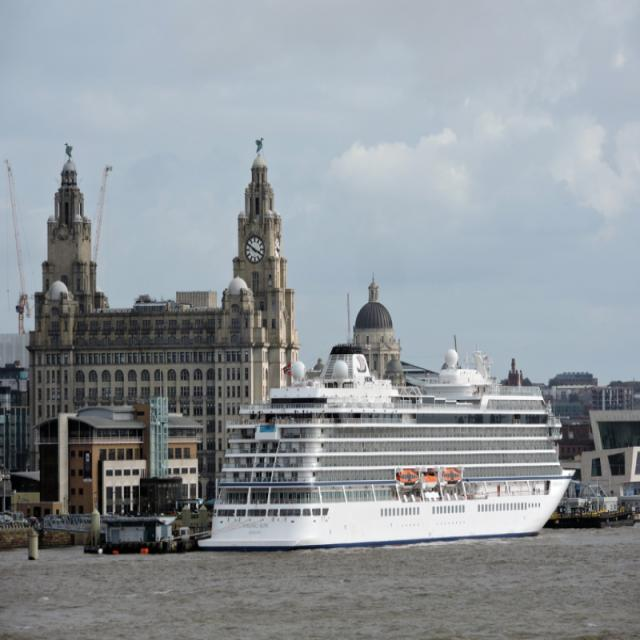cruises: (194, 340, 579, 556)
